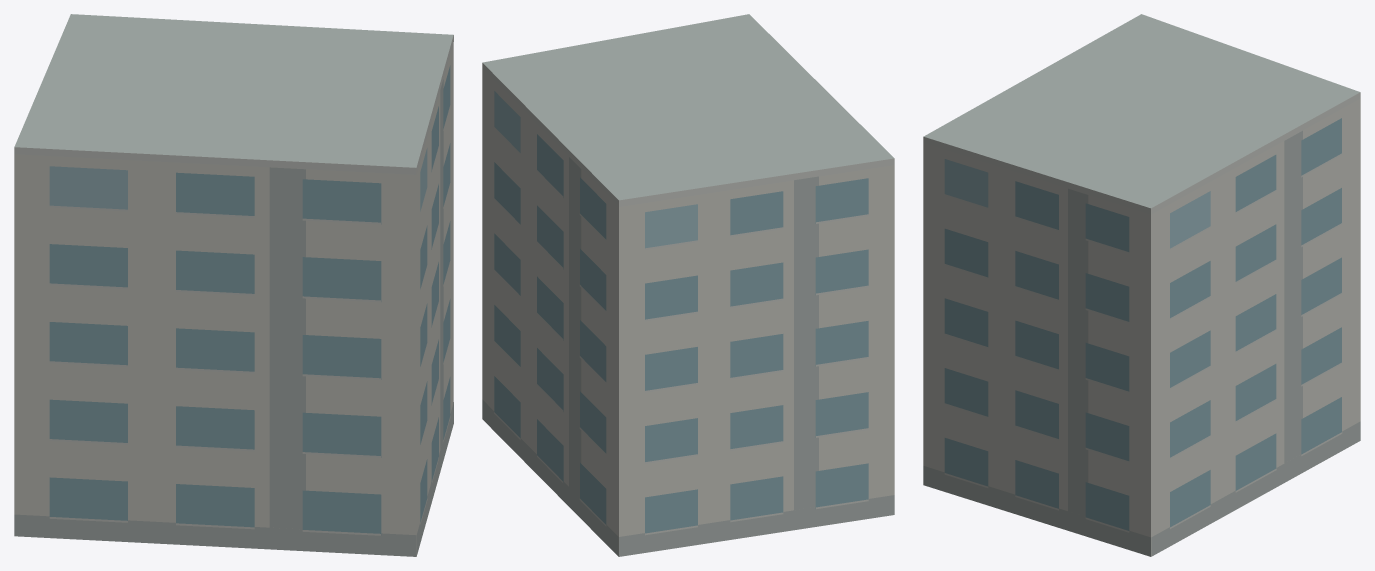
File: survey-upis-32916039.glb
3 renders of one model, left to right at view 1: azimuth 30°, elevation 25°; view 2: azimuth 150°, elevation 25°; view 3: azimuth 270°, elevation 25°, orthographic. The views are drawn at different scales.
Parts seen in each view (by area): view 1: survey-upis-32916039.tmp; view 2: survey-upis-32916039.tmp; view 3: survey-upis-32916039.tmp.
Boxes of the visible parts, bbox=[...] form: survey-upis-32916039.tmp: bbox=[14, 14, 453, 556]; survey-upis-32916039.tmp: bbox=[482, 14, 894, 556]; survey-upis-32916039.tmp: bbox=[923, 14, 1360, 556].
Size of the model in its own units: 15.92 by 13.3 by 15.13.
